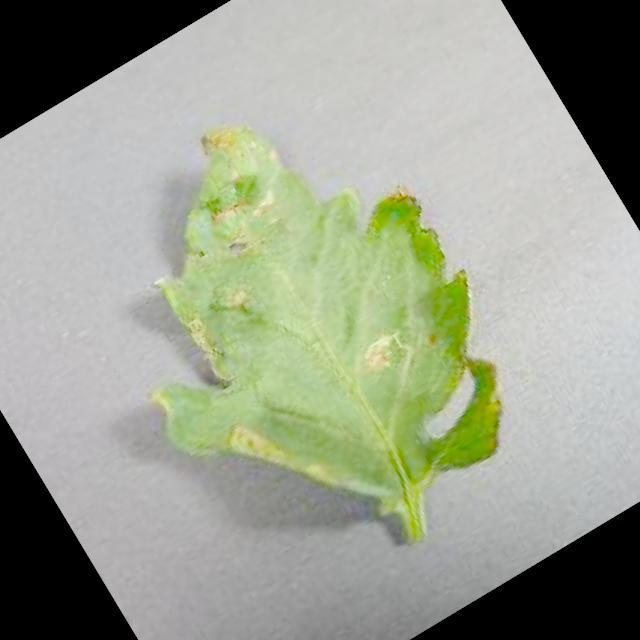Tomato bacterial spot leaf: (37, 44, 564, 598)
